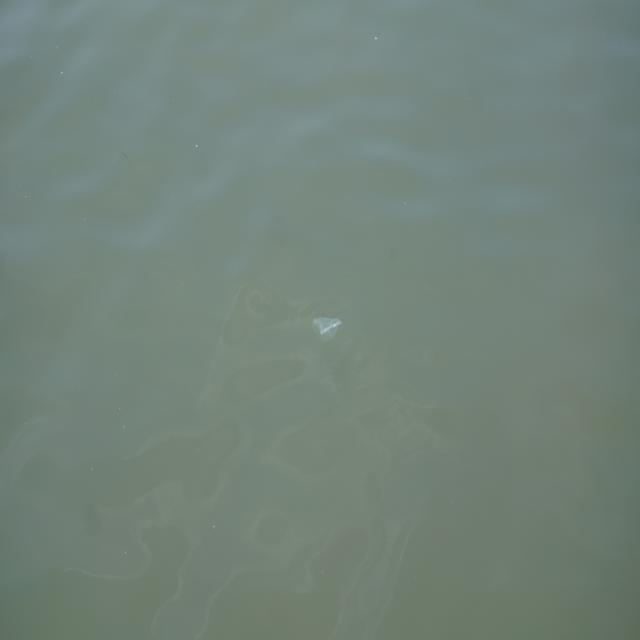Kantong Plastik: (310, 310, 344, 347)
